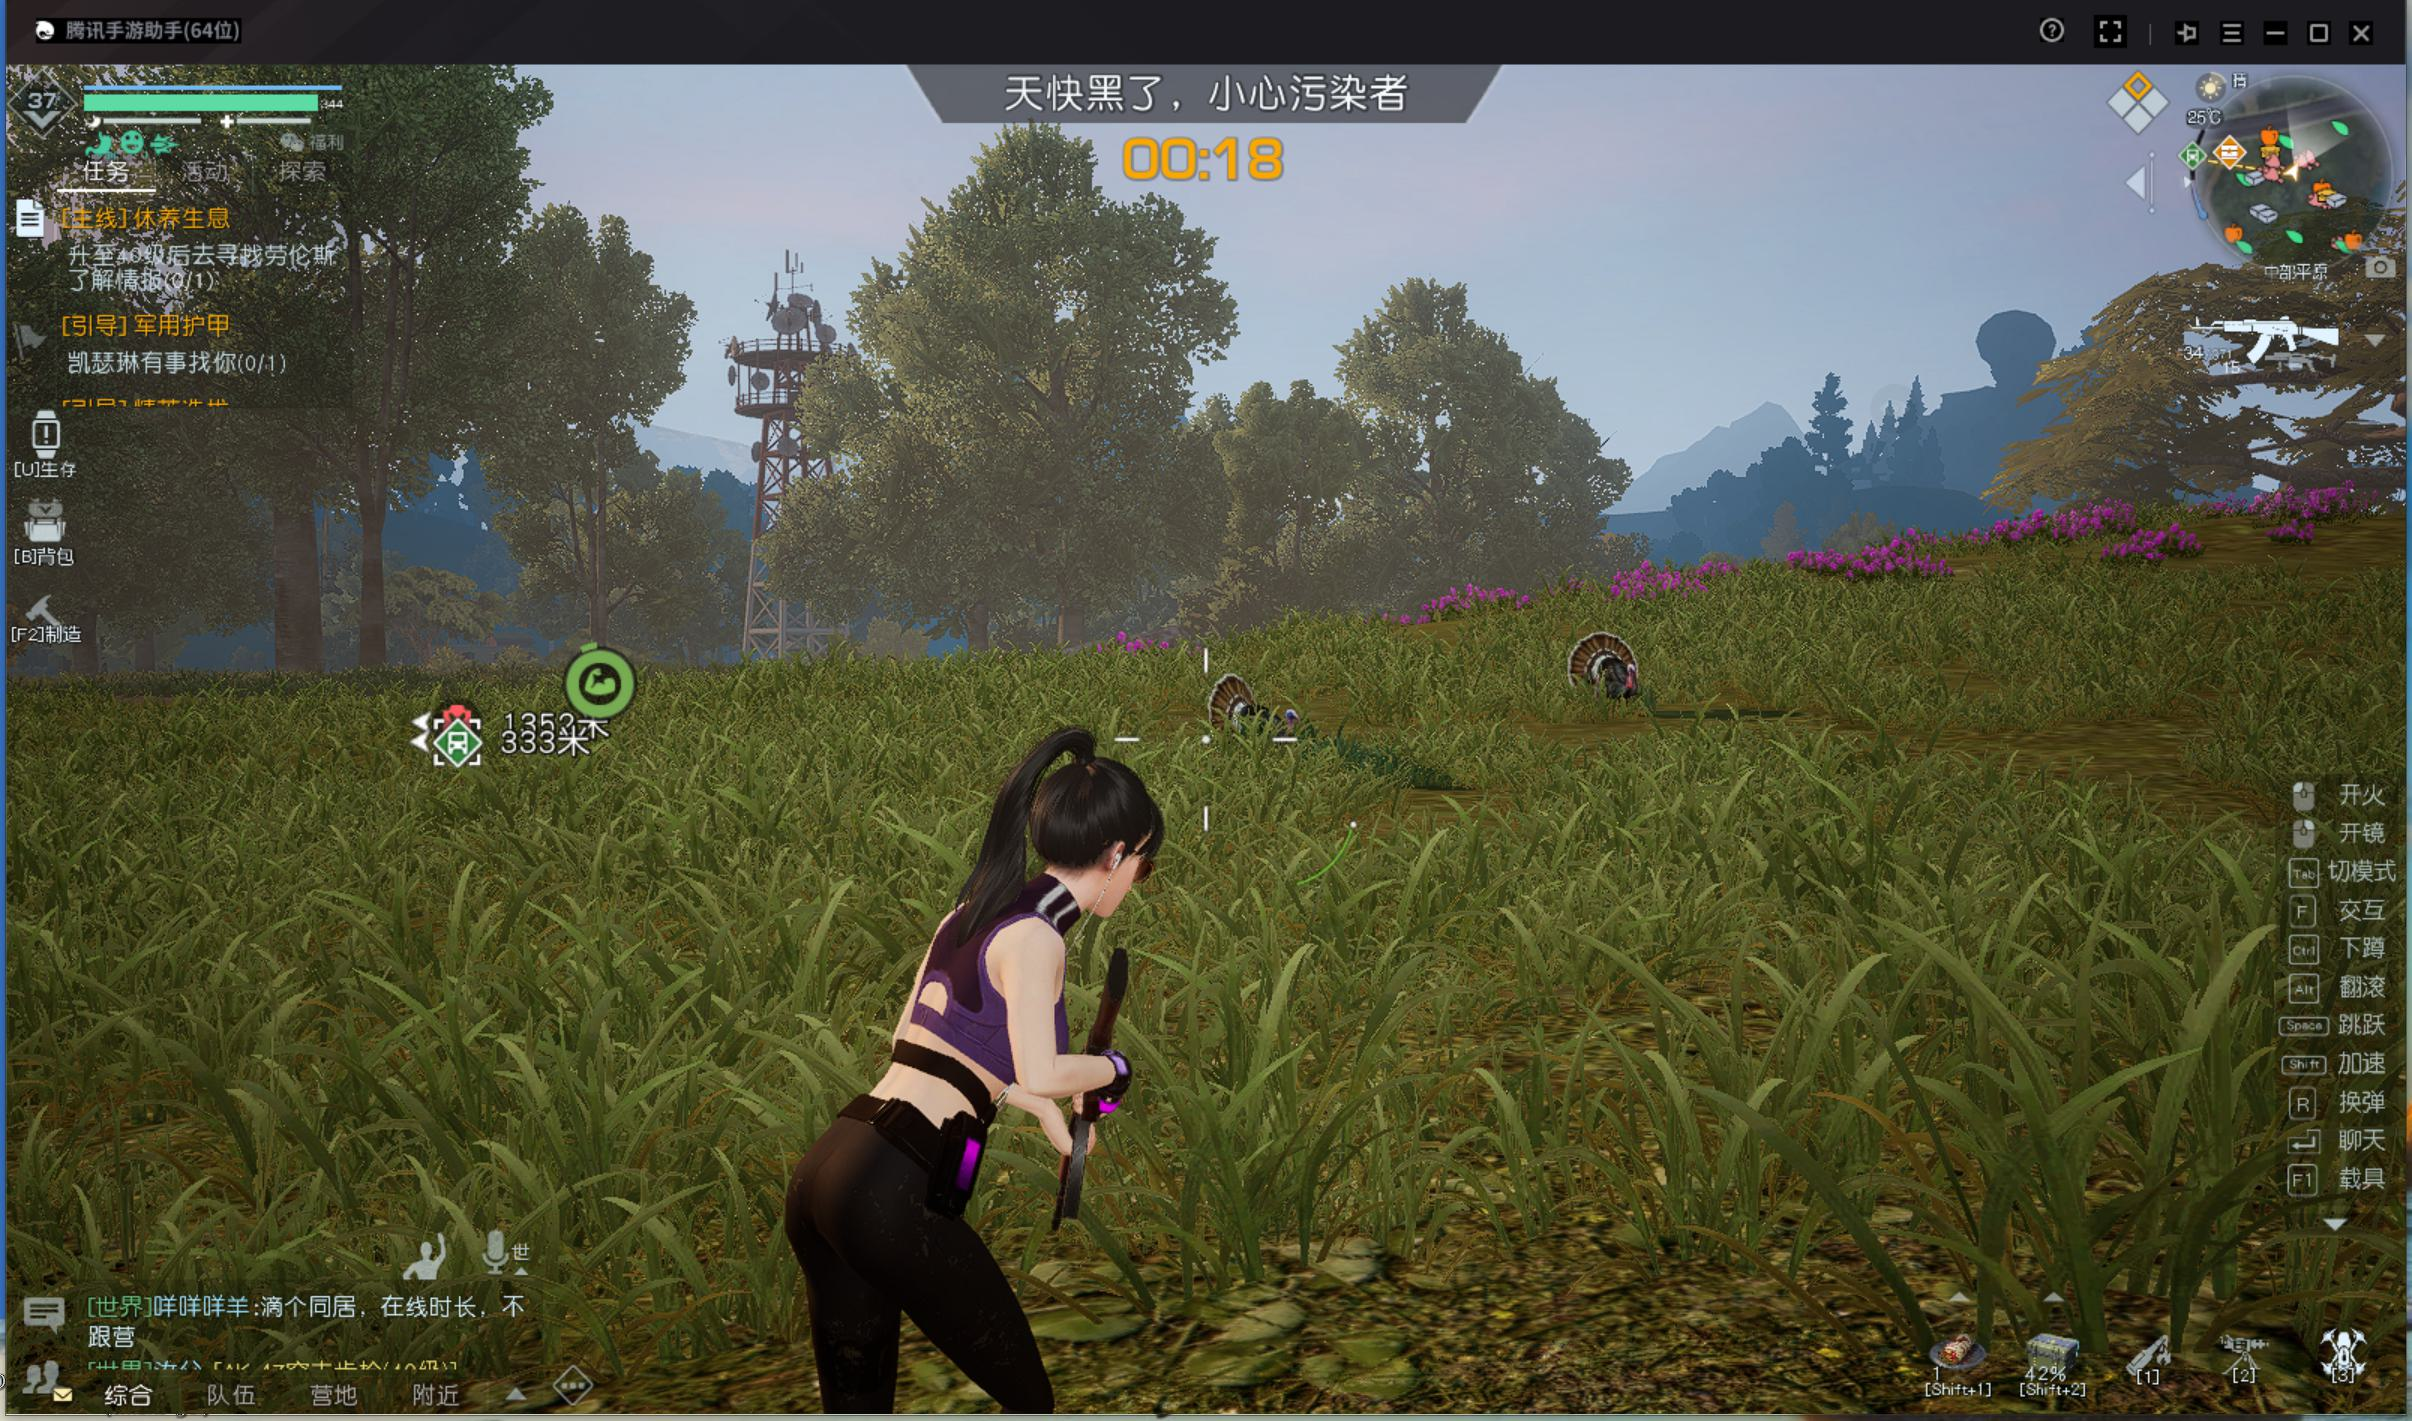tree: (262, 492, 326, 690), (350, 514, 392, 695), (577, 513, 633, 650)
